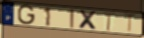1: (42, 7, 51, 27)
G: (17, 5, 37, 26)
I: (69, 9, 75, 29)
T: (122, 12, 139, 34), (102, 11, 117, 32)
X: (78, 9, 99, 31)
